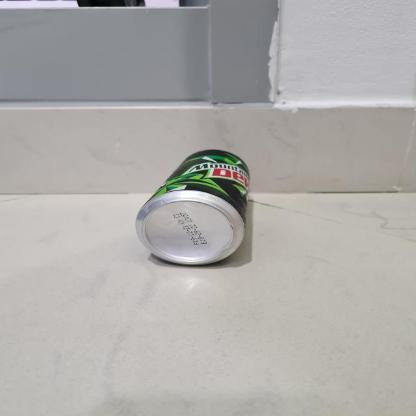Can: (137, 145, 255, 269)
